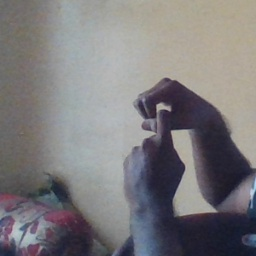Q: (118, 77, 213, 197)
